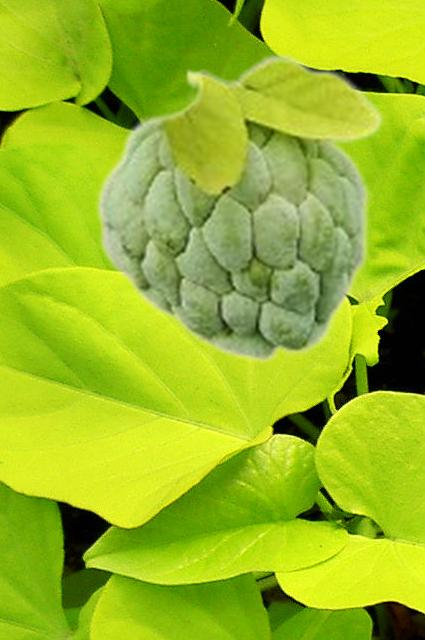atis: (93, 52, 384, 363)
